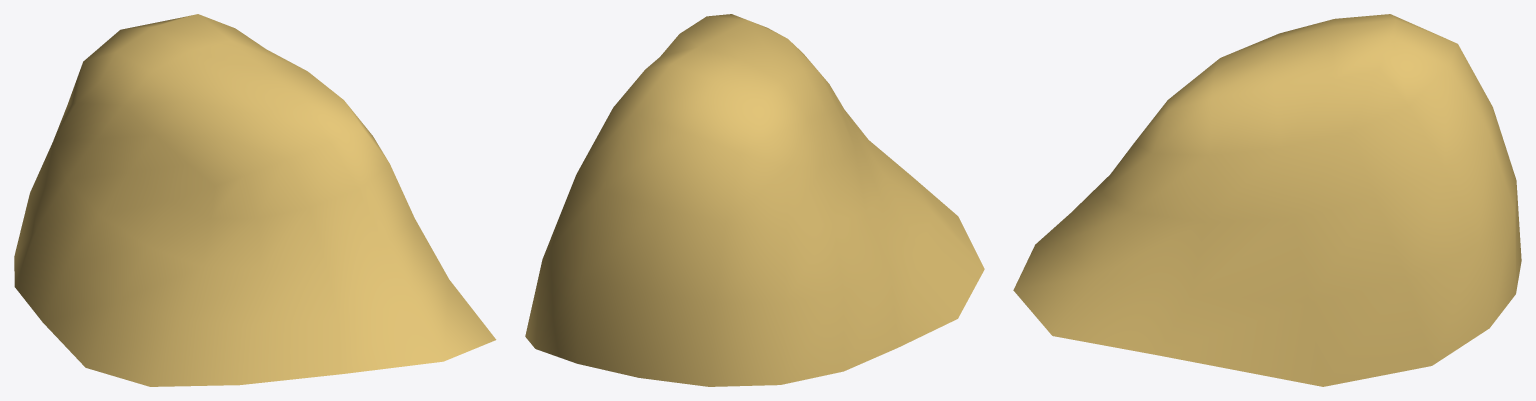
Rendered from Sand6.fbx.
3 renders of one model, left to right at view 1: azimuth 30°, elevation 25°; view 2: azimuth 150°, elevation 25°; view 3: azimuth 270°, elevation 25°, orthographic. The views are drawn at different scales.
Visible parts, largest first — view 1: Sand6; view 2: Sand6; view 3: Sand6.
Boxes of the visible parts, bbox=[...] form: Sand6: bbox=[14, 14, 496, 386]; Sand6: bbox=[525, 14, 984, 386]; Sand6: bbox=[1013, 14, 1521, 386].
Bounding box in the file's own units: 1040 × 840 × 1365.
